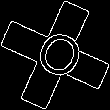O_SW: (24, 23, 86, 87)
